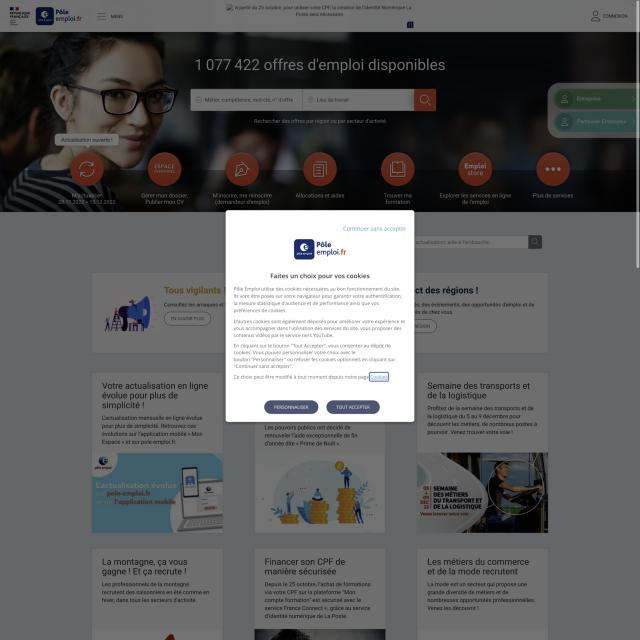CheckBox: (264, 400, 318, 414), (326, 400, 380, 414), (341, 225, 409, 233)
Input field: (232, 286, 403, 314)
date picker: (292, 237, 350, 260)
header: (226, 209, 415, 422)
image: (268, 272, 372, 280)
